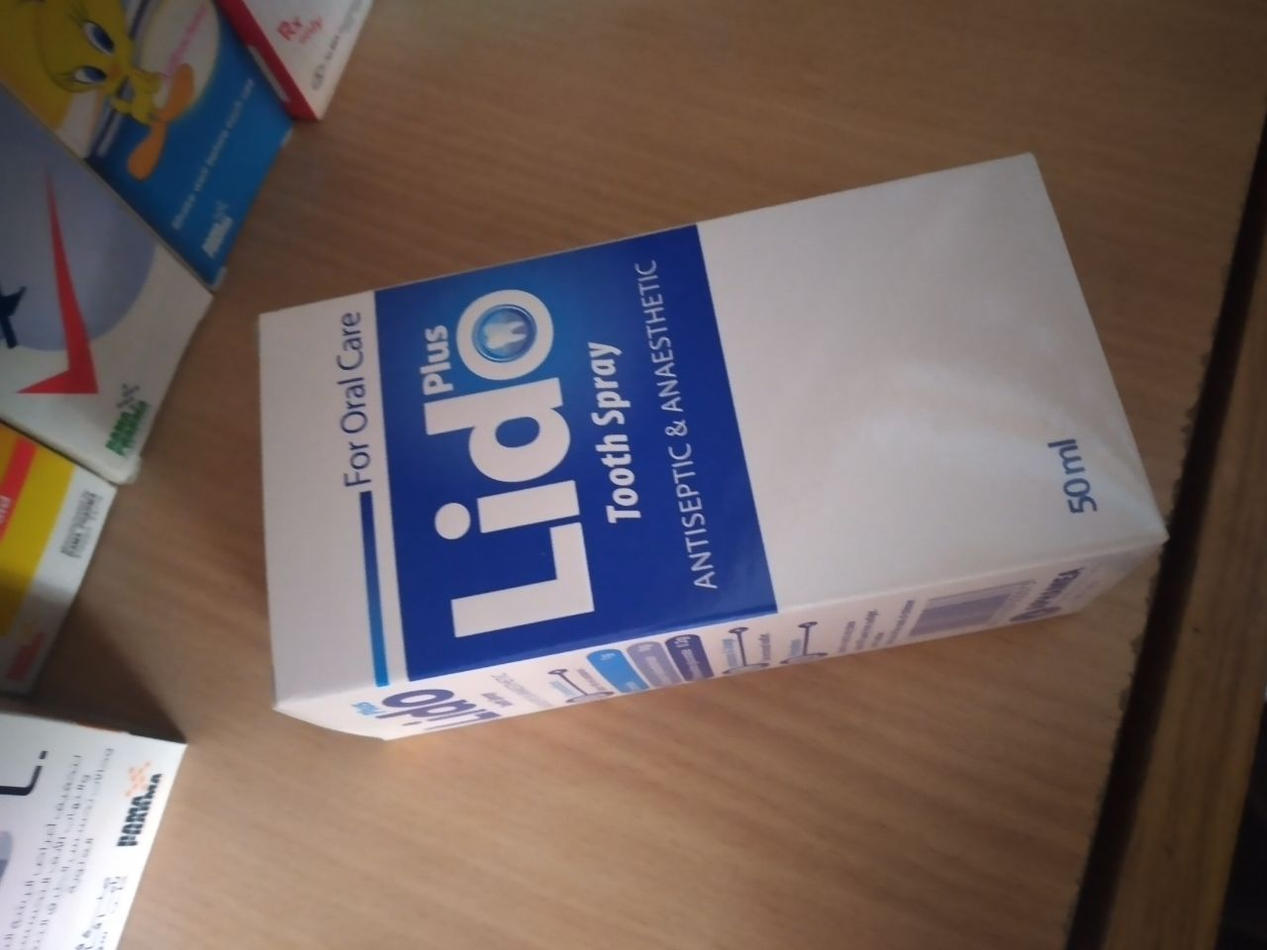Medicine: (213, 143, 1173, 750)
